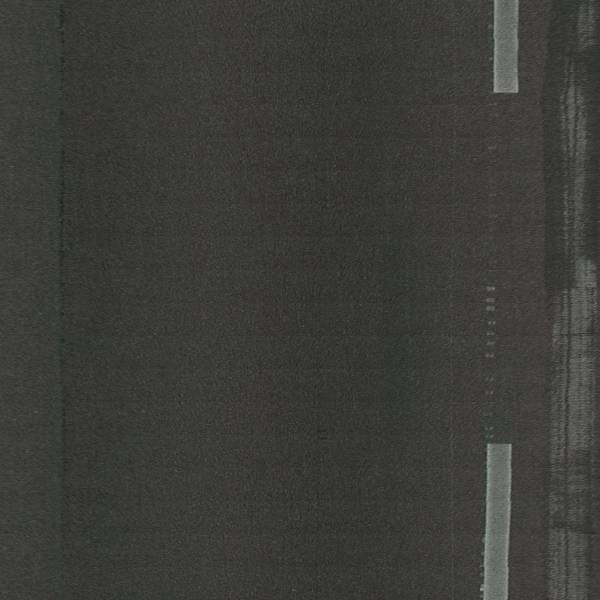road_damage: (48, 1, 75, 596)
